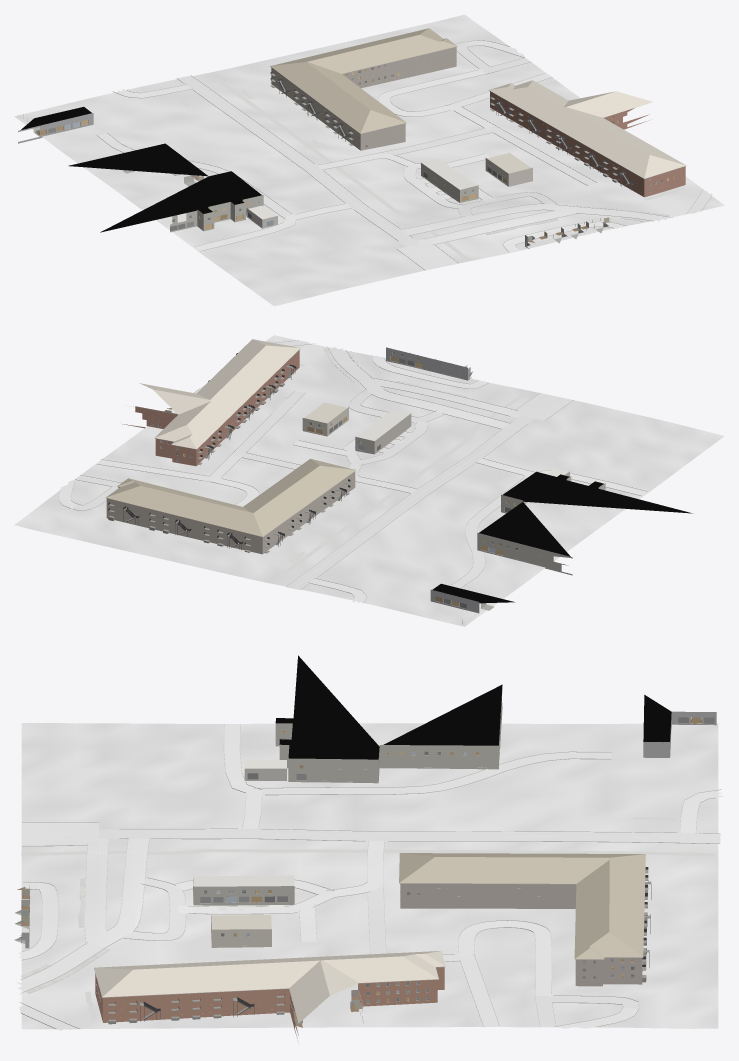
The picture shows the model from 3 angles, top to bottom: view 1: azimuth 30°, elevation 25°; view 2: azimuth 150°, elevation 25°; view 3: azimuth 270°, elevation 25°; orthographic projection. The views are drawn at different scales.
Visible parts, largest first — view 1: ground, roof, concrete, wall, roof_flat, asphalt, curb, wall_com, detail, walk, rail, room (+2 smaller); view 2: ground, roof, concrete, roof_flat, asphalt, wall, wall_com, curb, detail, walk, rail, glass_lit; view 3: ground, roof, concrete, asphalt, wall, roof_flat, wall_com, curb, walk, detail, glass, room (+1 smaller).
Part boxes in pixels (box(x1,y1,x2,y2)): ground: box(14, 14, 724, 306); roof: box(270, 28, 686, 178); concrete: box(97, 40, 712, 252); wall: box(271, 47, 685, 197); roof_flat: box(20, 107, 530, 232); asphalt: box(178, 75, 668, 270); curb: box(97, 40, 711, 269); wall_com: box(18, 113, 532, 248); detail: box(19, 46, 686, 247); walk: box(173, 73, 684, 261); rail: box(270, 71, 633, 184); room: box(33, 72, 609, 243); ground: box(14, 335, 724, 626); roof: box(106, 339, 355, 536); concrete: box(59, 340, 647, 602); roof_flat: box(304, 402, 692, 603); asphalt: box(286, 347, 572, 589); wall: box(106, 350, 355, 554); wall_com: box(302, 347, 605, 613); curb: box(58, 340, 647, 603); detail: box(105, 348, 624, 624); walk: box(270, 348, 531, 583); rail: box(108, 353, 350, 544); glass_lit: box(161, 356, 517, 606); ground: box(21, 723, 718, 1029); roof: box(94, 853, 645, 1023); concrete: box(18, 724, 724, 1030); asphalt: box(16, 823, 720, 991); wall: box(95, 883, 642, 1041); roof_flat: box(193, 655, 671, 929); wall_com: box(21, 684, 716, 948); curb: box(20, 724, 721, 1028); walk: box(20, 816, 715, 1019); detail: box(29, 713, 714, 1024); glass: box(96, 717, 714, 1007); room: box(14, 719, 701, 1027).
Bounding box in the file's own units: 308 × 16.65 × 255.
